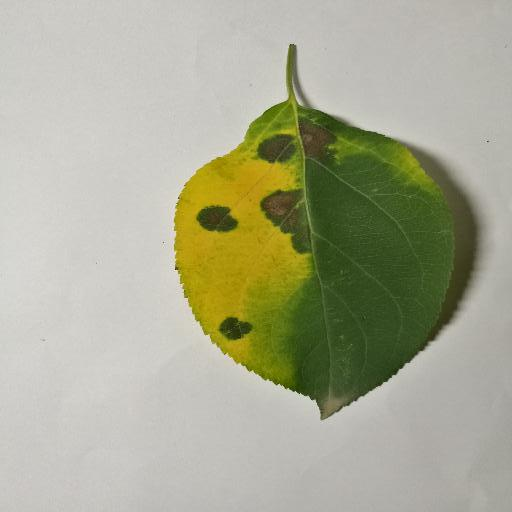Brown_Spot: (257, 130, 329, 164), (264, 191, 310, 243), (195, 206, 236, 232), (218, 320, 257, 340)
